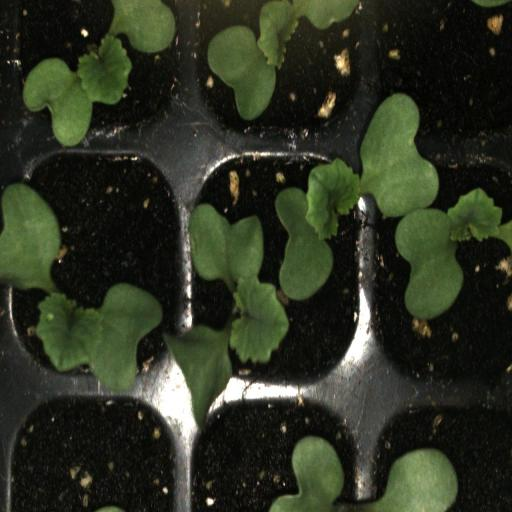Germinacao: (184, 138, 374, 398), (2, 138, 185, 395), (373, 138, 512, 396), (187, 0, 367, 138), (10, 0, 190, 137)
